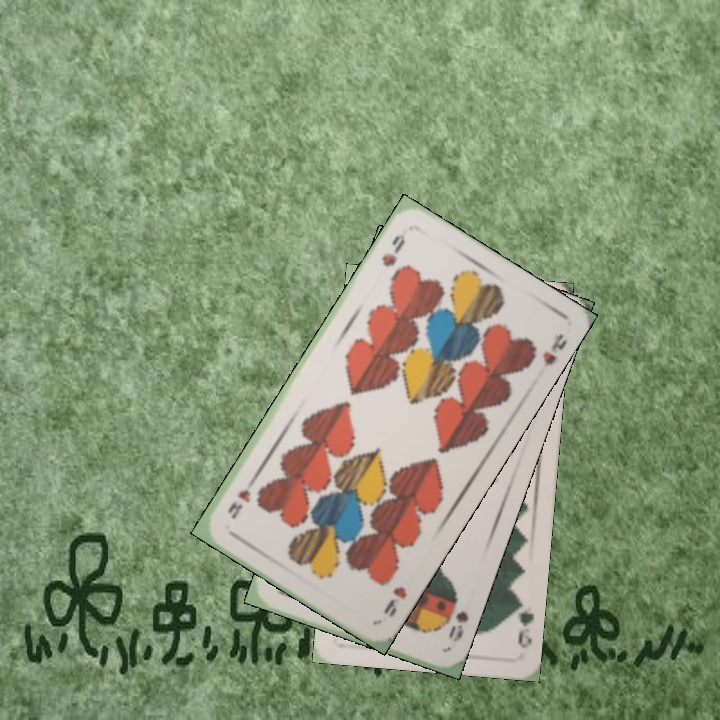G9: (510, 594, 537, 651)
H9: (377, 230, 408, 270), (379, 582, 410, 620)
SO: (444, 607, 471, 645)
